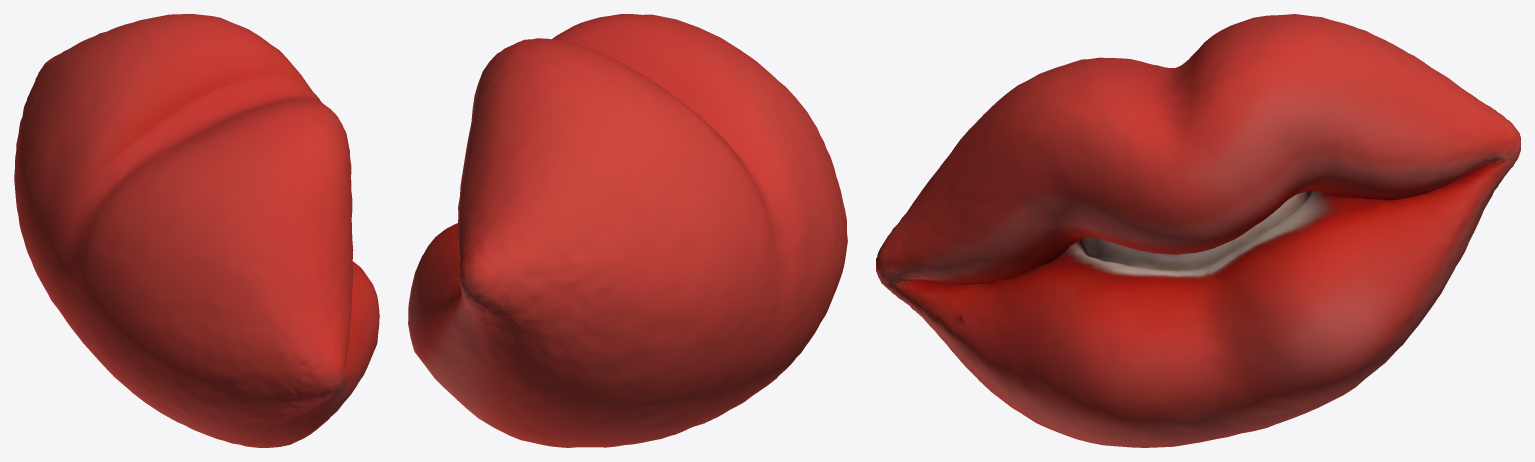
The model's file is r33-kiss.glb.
3 renders of one model, left to right at view 1: azimuth 30°, elevation 25°; view 2: azimuth 150°, elevation 25°; view 3: azimuth 270°, elevation 25°, orthographic. The views are drawn at different scales.
Visible parts, largest first — view 1: tripo_node_3b702295-279d-4fbc-8999-884b2e9b4039; view 2: tripo_node_3b702295-279d-4fbc-8999-884b2e9b4039; view 3: tripo_node_3b702295-279d-4fbc-8999-884b2e9b4039.
Boxes of the visible parts, x1,y1,x2,y2 form: tripo_node_3b702295-279d-4fbc-8999-884b2e9b4039: [14, 14, 379, 447]; tripo_node_3b702295-279d-4fbc-8999-884b2e9b4039: [408, 14, 847, 447]; tripo_node_3b702295-279d-4fbc-8999-884b2e9b4039: [876, 14, 1520, 447].
Size of the model in its own units: 0.5527 by 0.7012 by 0.998.
1 material, 1 textured.
